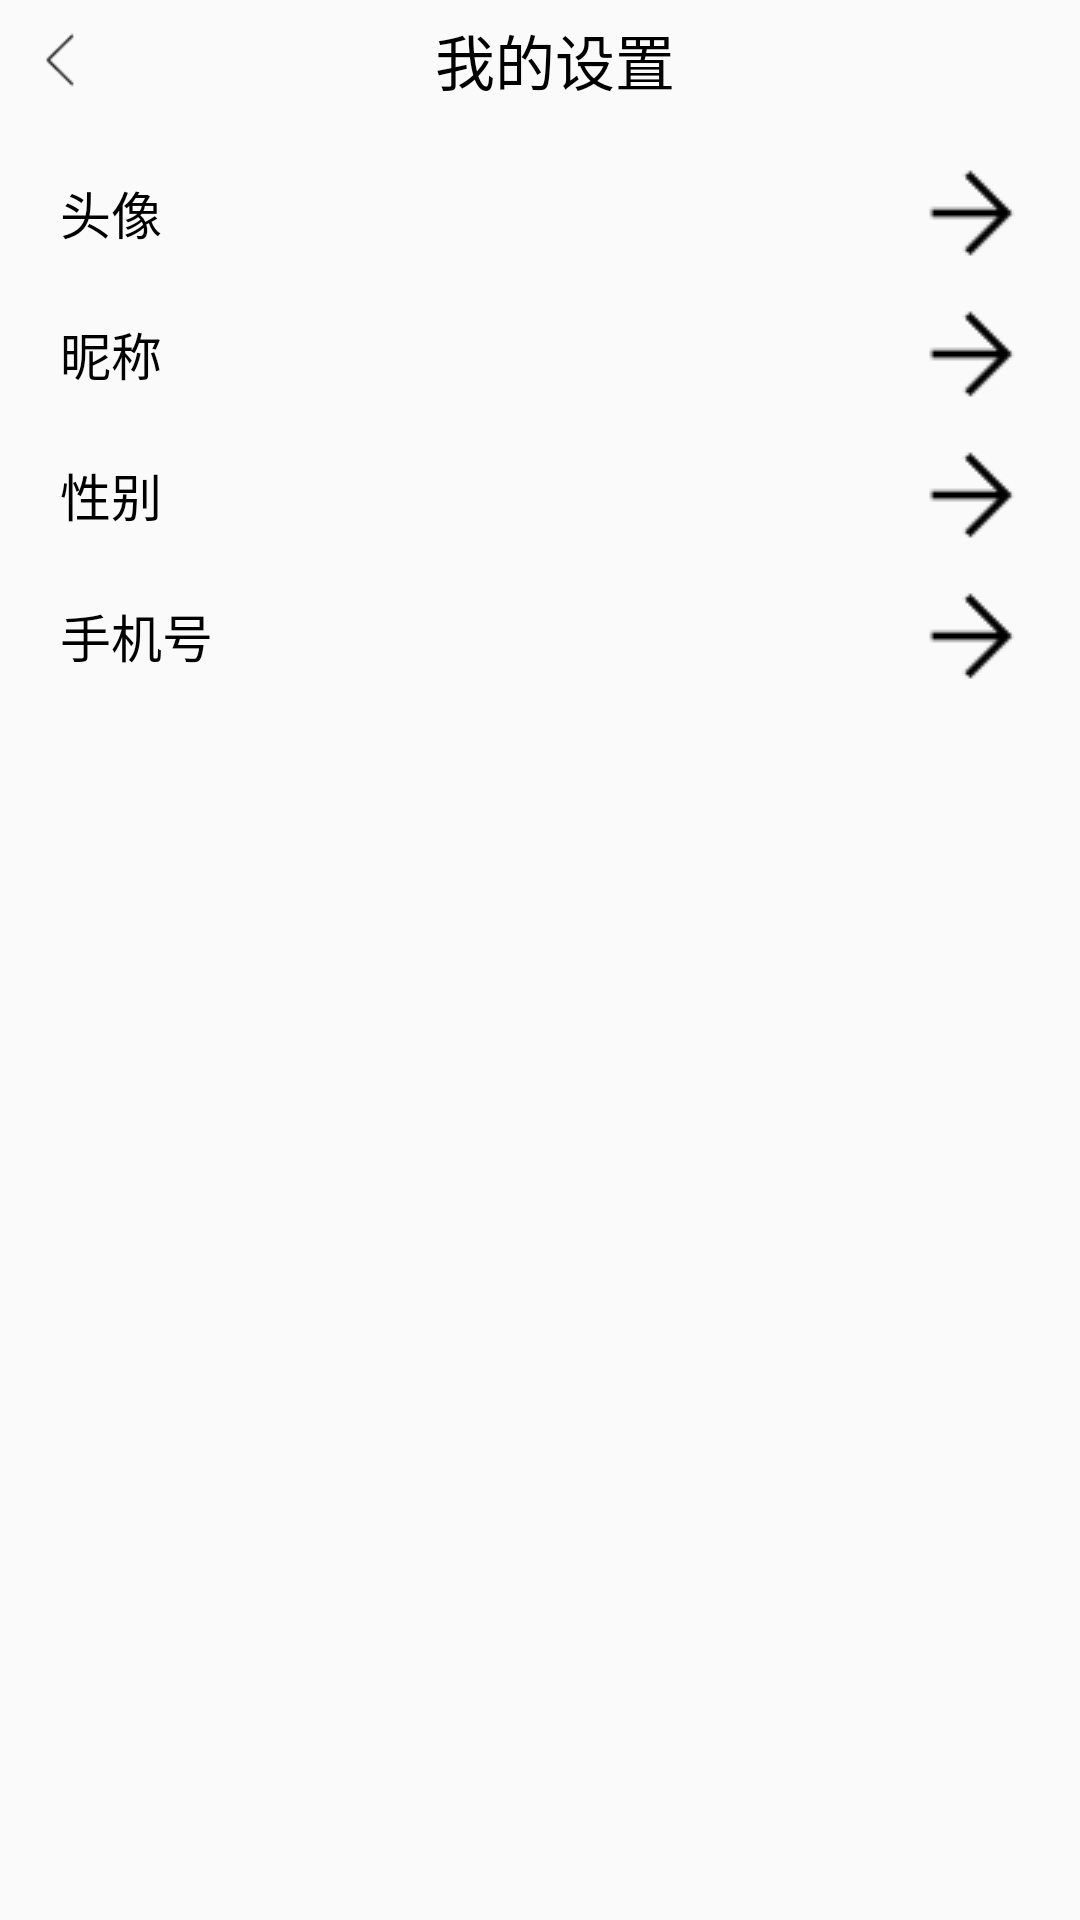

Locate icon controls on the screen. Image size 1080×1920, boxes as (x1, y1, x2, y2).
if fanhui: (46, 33, 74, 86)
if fanhui you: (929, 170, 1013, 256), (929, 311, 1013, 397), (929, 452, 1013, 538), (929, 593, 1013, 679)
